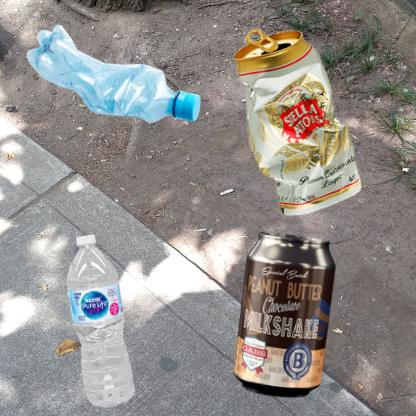botella: (10, 10, 272, 185), (10, 213, 194, 416)
lata: (213, 10, 400, 269), (213, 213, 363, 416)
